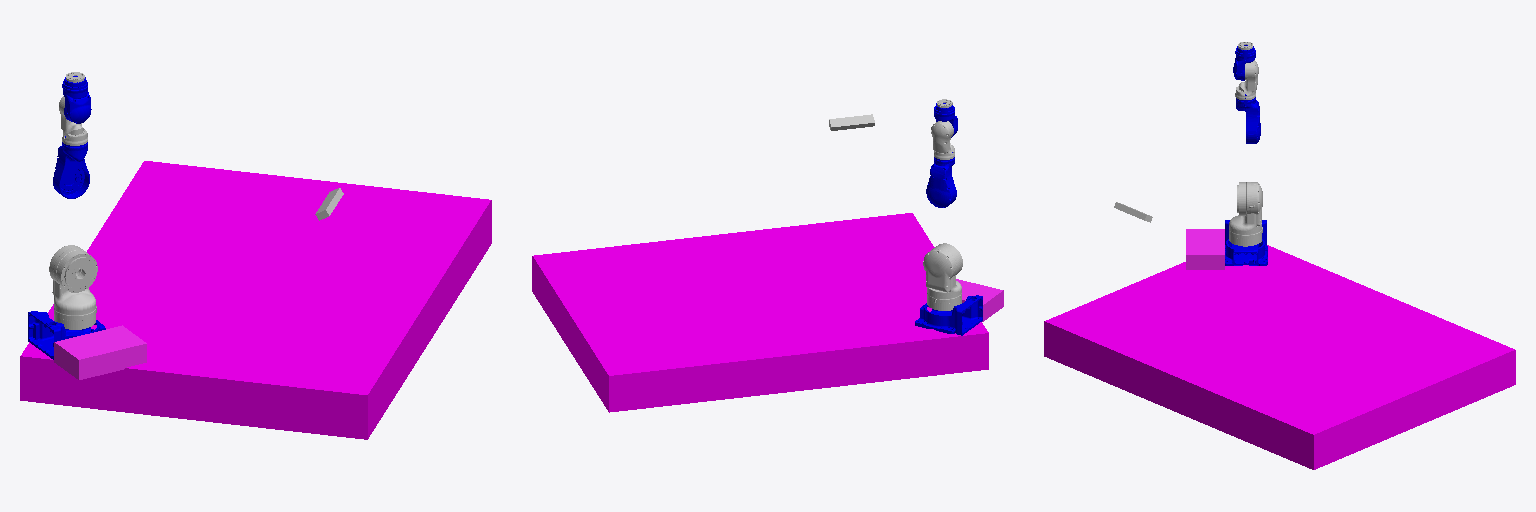
robot.urdf — freetail:
<?xml version="1.0" ?>
<!-- =================================================================================== -->
<!-- |    This document was autogenerated by xacro from freetail.xacro                 | -->
<!-- |    EDITING THIS FILE BY HAND IS NOT RECOMMENDED                                 | -->
<!-- =================================================================================== -->
<robot name="freetail" xmlns:xacro="http://ros.org/wiki/xacro">
  <link name="base_link">
    <visual>
      <geometry>
        <mesh filename="package://motoman_config/meshes/sia20d/visual/MOTOMAN_BASE.stl"/>
      </geometry>
      <material name="blue">
        <color rgba="0 0 1 1"/>
      </material>
    </visual>
    <collision>
      <geometry>
        <mesh filename="package://motoman_config/meshes/sia20d/collision/MOTOMAN_BASE.stl"/>
      </geometry>
      <material name="yellow">
        <color rgba="0 1 1 1"/>
      </material>
    </collision>
  </link>
  <link name="link_s">
    <visual>
      <origin rpy="0 0 3.1416" xyz="0 0 0"/>
      <geometry>
        <mesh filename="package://motoman_config/meshes/sia20d/visual/MOTOMAN_AXIS_S.stl"/>
      </geometry>
      <material name="silver">
        <color rgba="0.8 0.8 0.8 1"/>
      </material>
    </visual>
    <collision>
      <origin rpy="0 0 3.1416" xyz="0 0 0"/>
      <geometry>
        <mesh filename="package://motoman_config/meshes/sia20d/collision/MOTOMAN_AXIS_S.stl"/>
      </geometry>
      <material name="yellow"/>
    </collision>
  </link>
  <link name="link_l">
    <visual>
      <origin rpy="1.57 3.1416 3.1416" xyz="0 0 0"/>
      <geometry>
        <mesh filename="package://motoman_config/meshes/sia20d/visual/MOTOMAN_AXIS_L.stl"/>
      </geometry>
      <material name="blue"/>
    </visual>
    <collision>
      <origin rpy="1.57 3.1416 3.1416" xyz="0 0 0"/>
      <geometry>
        <mesh filename="package://motoman_config/meshes/sia20d/collision/MOTOMAN_AXIS_L.stl"/>
      </geometry>
      <material name="yellow"/>
    </collision>
  </link>
  <link name="link_e">
    <visual>
      <origin rpy="0 0 0" xyz="0 0 0"/>
      <geometry>
        <mesh filename="package://motoman_config/meshes/sia20d/visual/MOTOMAN_AXIS_E.stl"/>
      </geometry>
      <material name="silver"/>
    </visual>
    <collision>
      <origin rpy="0 0 0" xyz="0 0 0"/>
      <geometry>
        <mesh filename="package://motoman_config/meshes/sia20d/collision/MOTOMAN_AXIS_E.stl"/>
      </geometry>
      <material name="yellow"/>
    </collision>
  </link>
  <link name="link_u">
    <visual>
      <origin rpy="1.57 -3.1415 3.1416" xyz="0 0 0"/>
      <geometry>
        <mesh filename="package://motoman_config/meshes/sia20d/visual/MOTOMAN_AXIS_U.stl"/>
      </geometry>
      <material name="blue"/>
    </visual>
    <collision>
      <origin rpy="1.57 -3.1415 3.1416" xyz="0 0 0"/>
      <geometry>
        <mesh filename="package://motoman_config/meshes/sia20d/collision/MOTOMAN_AXIS_U.stl"/>
      </geometry>
      <material name="yellow"/>
    </collision>
  </link>
  <link name="link_r">
    <visual>
      <origin rpy="0 0 0" xyz="0 0 0"/>
      <geometry>
        <mesh filename="package://motoman_config/meshes/sia20d/visual/MOTOMAN_AXIS_R.stl"/>
      </geometry>
      <material name="silver"/>
    </visual>
    <collision>
      <origin rpy="0 0 0" xyz="0 0 0"/>
      <geometry>
        <mesh filename="package://motoman_config/meshes/sia20d/collision/MOTOMAN_AXIS_R.stl"/>
      </geometry>
      <material name="yellow"/>
    </collision>
  </link>
  <link name="link_b">
    <visual>
      <origin rpy="-1.57 0 0" xyz="0 0 0"/>
      <geometry>
        <mesh filename="package://motoman_config/meshes/sia20d/visual/MOTOMAN_AXIS_B.stl"/>
      </geometry>
      <material name="blue"/>
    </visual>
    <collision>
      <origin rpy="-1.57 0 0" xyz="0 0 0"/>
      <geometry>
        <mesh filename="package://motoman_config/meshes/sia20d/collision/MOTOMAN_AXIS_B.stl"/>
      </geometry>
      <material name="yellow"/>
    </collision>
  </link>
  <link name="link_t">
    <visual>
      <geometry>
        <mesh filename="package://motoman_config/meshes/sia20d/visual/MOTOMAN_AXIS_T.stl"/>
      </geometry>
      <material name="silver"/>
    </visual>
    <collision>
      <geometry>
        <mesh filename="package://motoman_config/meshes/sia20d/collision/MOTOMAN_AXIS_T.stl"/>
      </geometry>
      <material name="yellow"/>
    </collision>
  </link>
  <joint name="joint_s" type="revolute">
    <parent link="base_link"/>
    <child link="link_s"/>
    <origin rpy="0 0 0" xyz="0 0 0.41"/>
    <axis xyz="0 0 1"/>
    <limit effort="100" lower="-3.1416" upper="3.1416" velocity="2.26"/>
  </joint>
  <joint name="joint_l" type="revolute">
    <parent link="link_s"/>
    <child link="link_l"/>
    <origin rpy="0 0 0" xyz="0 0 0"/>
    <axis xyz="0 1 0"/>
    <limit effort="100" lower="-1.91" upper="1.91" velocity="2.26"/>
  </joint>
  <joint name="joint_e" type="revolute">
    <parent link="link_l"/>
    <child link="link_e"/>
    <origin rpy="0 0 0" xyz="0 0 0.49"/>
    <axis xyz="0 0 1"/>
    <limit effort="100" lower="-2.96" upper="2.96" velocity="2.96"/>
  </joint>
  <joint name="joint_u" type="revolute">
    <parent link="link_e"/>
    <child link="link_u"/>
    <origin rpy="0 0 0" xyz="0 0 0"/>
    <axis xyz="0 -1 0"/>
    <limit effort="100" lower="-2.26" upper="2.26" velocity="2.96"/>
  </joint>
  <joint name="joint_r" type="revolute">
    <parent link="link_u"/>
    <child link="link_r"/>
    <origin rpy="0 0 0" xyz="0 0 0.420"/>
    <axis xyz="0 0 -1"/>
    <limit effort="100" lower="-3.1416" upper="3.1416" velocity="3.48"/>
  </joint>
  <joint name="joint_b" type="revolute">
    <parent link="link_r"/>
    <child link="link_b"/>
    <origin rpy="0 0 0" xyz="0 0 0"/>
    <axis xyz="0 -1 0"/>
    <limit effort="100" lower="-1.91" upper="1.91" velocity="3.48"/>
  </joint>
  <joint name="joint_t" type="revolute">
    <parent link="link_b"/>
    <child link="link_t"/>
    <origin rpy="0 0 0" xyz="0 0 0.18"/>
    <axis xyz="0 0 -1"/>
    <limit effort="100" lower="-3.1416" upper="3.1416" velocity="6.97"/>
  </joint>
  <link name="palm">
    <visual>
      <geometry>
        <mesh filename="package://robotiq_s_model_visualization/meshes/s-model/visual/GRIPPER_OPEN_PALM.stl"/>
      </geometry>
      <material name="green">
        <color rgba="0 1 0 1"/>
      </material>
    </visual>
    <collision>
      <geometry>
        <mesh filename="package://robotiq_s_model_visualization/meshes/s-model/collision/GRIPPER_OPEN_PALM.stl"/>
      </geometry>
      <material name="yellow">
        <color rgba="0 1 1 1"/>
      </material>
    </collision>
  </link>
  <link name="finger_1">
    <visual>
      <geometry>
        <mesh filename="package://robotiq_s_model_visualization/meshes/s-model/visual/GRIPPER_OPEN_FINGER_1.stl"/>
      </geometry>
      <material name="green"/>
    </visual>
    <collision>
      <geometry>
        <mesh filename="package://robotiq_s_model_visualization/meshes/s-model/collision/GRIPPER_OPEN_FINGER_1.stl"/>
      </geometry>
      <material name="yellow"/>
    </collision>
  </link>
  <link name="finger_2">
    <visual>
      <geometry>
        <mesh filename="package://robotiq_s_model_visualization/meshes/s-model/visual/GRIPPER_OPEN_FINGER_2.stl"/>
      </geometry>
      <material name="green"/>
    </visual>
    <collision>
      <geometry>
        <mesh filename="package://robotiq_s_model_visualization/meshes/s-model/collision/GRIPPER_OPEN_FINGER_2.stl"/>
      </geometry>
      <material name="yellow"/>
    </collision>
  </link>
  <link name="finger_3">
    <visual>
      <geometry>
        <mesh filename="package://robotiq_s_model_visualization/meshes/s-model/visual/GRIPPER_OPEN_FINGER_3.stl"/>
      </geometry>
      <material name="green"/>
    </visual>
    <collision>
      <geometry>
        <mesh filename="package://robotiq_s_model_visualization/meshes/s-model/collision/GRIPPER_OPEN_FINGER_3.stl"/>
      </geometry>
      <material name="yellow"/>
    </collision>
  </link>
  <joint name="joint_1" type="fixed">
    <parent link="palm"/>
    <child link="finger_1"/>
    <origin rpy="0 0 0" xyz="0 0 0"/>
  </joint>
  <joint name="joint_2" type="fixed">
    <parent link="palm"/>
    <child link="finger_2"/>
    <origin rpy="0 0 0" xyz="0 0 0"/>
  </joint>
  <joint name="joint_3" type="fixed">
    <parent link="palm"/>
    <child link="finger_3"/>
    <origin rpy="0 0 0" xyz="0 0 0"/>
  </joint>
  <!-- link list -->
  <link name="coupler">
    <visual>
      <geometry>
        <mesh filename="package://longhorn/meshes/coupler/visual/COUPLER.stl"/>
      </geometry>
      <material name="orange">
        <color rgba="1 0.5 0 1"/>
      </material>
    </visual>
    <collision>
      <geometry>
        <mesh filename="package://longhorn/meshes/coupler/collision/COUPLER.stl"/>
      </geometry>
      <material name="yellow">
        <color rgba="0 1 1 1"/>
      </material>
    </collision>
  </link>
  <!-- end link list -->
  <!-- joint list -->
  <joint name="tool-coupler" type="fixed">
    <parent link="link_t"/>
    <child link="coupler"/>
    <origin rpy="1.570 0 0" xyz="0 0 0"/>
  </joint>
  <joint name="coupler-hand" type="fixed">
    <parent link="coupler"/>
    <child link="palm"/>
    <origin rpy="-1.570 -2.356 0" xyz="0 0.240 0"/>
  </joint>
  <!-- end of joint list -->
  <!-- environment list -->
  <link name="table">
    <visual>
      <geometry>
        <box size="1.83 2.44 0.25"/>
      </geometry>
      <material name="">
        <color rgba="1 0 1 1"/>
      </material>
    </visual>
    <collision>
      <geometry>
        <box size="1.83 2.44 0.25"/>
      </geometry>
      <material name="">
        <color rgba="1 0 1 1"/>
      </material>
    </collision>
  </link>
  <link name="table_keepout_1">
    <collision>
      <geometry>
        <box size="2.08 0.25 2"/>
      </geometry>
      <material name="">
        <color rgba="1 0.2 1 0.1"/>
      </material>
    </collision>
  </link>
  <link name="table_keepout_2">
    <collision>
      <geometry>
        <box size="0.25 2.69 2"/>
      </geometry>
      <material name="">
        <color rgba="1 0.2 1 0.1"/>
      </material>
    </collision>
  </link>
  <link name="abb_keepout">
    <collision>
      <geometry>
        <box size="0.915 1.524 2"/>
      </geometry>
      <material name="">
        <color rgba="1 0.2 1 0.1"/>
      </material>
    </collision>
  </link>
  <link name="power_supply">
    <visual>
      <geometry>
        <box size="0.400 0.250 0.115"/>
      </geometry>
      <material name="">
        <color rgba="1 0.2 1 0.1"/>
      </material>
    </visual>
    <collision>
      <geometry>
        <box size="0.400 0.250 0.115"/>
      </geometry>
      <material name="">
        <color rgba="1 0.2 1 0.1"/>
      </material>
    </collision>
  </link>
  <link name="kinect_keepout">
    <collision>
      <geometry>
        <box size="0.25 2.69 2"/>
      </geometry>
      <material name="">
        <color rgba="1 0.2 1 0.1"/>
      </material>
    </collision>
  </link>
  <link name="kinect">
    <collision>
      <geometry>
        <box size="0.36 0.28 0.22"/>
      </geometry>
      <material name="">
        <color rgba="1 0.8 1 0.1"/>
      </material>
    </collision>
  </link>
  <joint name="base-table" type="fixed">
    <parent link="base_link"/>
    <child link="table"/>
    <origin rpy="0 0 -0.785" xyz="1.19 0.22 -0.125"/>
  </joint>
  <joint name="base-kinect" type="fixed">
    <parent link="base_link"/>
    <child link="kinect"/>
    <origin rpy="0 0.5235 2.356" xyz="1.08 -0.72 0.82"/>
  </joint>
  <joint name="table-keepout_1" type="fixed">
    <parent link="table"/>
    <child link="table_keepout_1"/>
    <origin rpy="0 0 0" xyz="0 -1.34 1"/>
  </joint>
  <joint name="table-keepout_2" type="fixed">
    <parent link="table"/>
    <child link="table_keepout_2"/>
    <origin rpy="0 0 0" xyz="-1.025 0 1"/>
  </joint>
  <joint name="abb-keepout" type="fixed">
    <parent link="table"/>
    <child link="abb_keepout"/>
    <origin rpy="0 0 0" xyz="0.475 0.458 1.125"/>
  </joint>
  <joint name="base-power_supply" type="fixed">
    <parent link="base_link"/>
    <child link="power_supply"/>
    <origin rpy="0 0 0" xyz="0 -0.260 0.050"/>
  </joint>
  <joint name="table-kinect" type="fixed">
    <parent link="table"/>
    <child link="kinect_keepout"/>
    <origin rpy="0 0 0" xyz=".5 0 1"/>
  </joint>
  <!-- end environment list -->
  <!-- kinect -->
  <joint name="kinect_frame_joint" type="fixed">
    <parent link="kinect"/>
    <child link="kinect_frame"/>
    <origin rpy="0 0 0" xyz="0 0 0"/>
  </joint>
  <link name="kinect_frame">
    <visual>
      <origin rpy="0 0 0" xyz="0 0 0"/>
      <geometry>
        <box size="0.064 0.28 0.04"/>
      </geometry>
      <material name="silver"/>
    </visual>
    <collision>
      <origin rpy="0 0 0" xyz="0 0 0"/>
      <geometry>
        <box size="0.064 0.28 0.04"/>
      </geometry>
    </collision>
  </link>
  <joint name="kinect_ir_joint" type="fixed">
    <parent link="kinect_frame"/>
    <child link="kinect_ir_link"/>
    <origin rpy="0 0 0" xyz="0 0 0"/>
  </joint>
  <link name="kinect_ir_link">
    <visual>
      <origin rpy="0 0 0" xyz="0 0 0"/>
      <geometry>
        <sphere radius="0.0005"/>
      </geometry>
    </visual>
  </link>
  <joint name="kinect_ir_optical_frame_joint" type="fixed">
    <parent link="kinect_ir_link"/>
    <child link="kinect_ir_optical_frame"/>
    <origin rpy="-1.57 0 -1.57" xyz="0 0 0"/>
  </joint>
  <link name="kinect_ir_optical_frame"/>
  <joint name="kinect_rgb_joint" type="fixed">
    <parent link="kinect_ir_link"/>
    <child link="kinect_rgb_link"/>
    <origin rpy="0 0 0" xyz="0 -0.03 0"/>
  </joint>
  <link name="kinect_rgb_link">
    <visual>
      <origin rpy="0 0 0" xyz="0 0 0"/>
      <geometry>
        <sphere radius="0.0005"/>
      </geometry>
    </visual>
  </link>
  <joint name="kinect_rgb_optical_frame_joint" type="fixed">
    <parent link="kinect_rgb_link"/>
    <child link="kinect_rgb_optical_frame"/>
    <origin rpy="-1.57 0 -1.57" xyz="0 0 0"/>
  </joint>
  <link name="kinect_rgb_optical_frame"/>
  <!-- end kinect -->
</robot>

--- Render facts (derived) ---
3 views of the same robot in one strip: view 1: azimuth 30°, elevation 25°; view 2: azimuth 150°, elevation 25°; view 3: azimuth 270°, elevation 25° (orthographic).
Robot: freetail — 25 links, 24 joints (7 revolute, 17 fixed); root link base_link; default pose: every joint at zero.
Links seen in each view (by area): view 1: table, power_supply, link_s, link_u, base_link, link_b, link_r; view 2: table, link_s, base_link, link_u, power_supply, link_r, kinect_frame; view 3: table, link_s, power_supply, base_link, link_u, link_r.
Link boxes in pixels (x1,y1,x2,y2): table: [20, 161, 491, 439]; power_supply: [54, 325, 146, 379]; link_s: [49, 245, 97, 329]; link_u: [53, 136, 89, 198]; base_link: [28, 311, 105, 359]; link_b: [62, 76, 91, 123]; link_r: [59, 96, 87, 145]; table: [532, 213, 988, 412]; link_s: [923, 243, 962, 310]; base_link: [915, 295, 982, 335]; link_u: [926, 152, 956, 207]; power_supply: [929, 279, 1003, 321]; link_r: [931, 121, 954, 159]; kinect_frame: [829, 114, 874, 130]; table: [1044, 245, 1515, 469]; link_s: [1229, 182, 1262, 246]; power_supply: [1186, 229, 1224, 269]; base_link: [1225, 220, 1267, 265]; link_u: [1236, 94, 1260, 143]; link_r: [1235, 60, 1258, 99].
Bounding box of the posed robot: 3.02 × 3.02 × 1.75 m (x, y, z).
6 mesh visuals loaded from 13 distinct referenced files (6 binary STL); not drawn: 7 (reference not matched to a file when rendering).